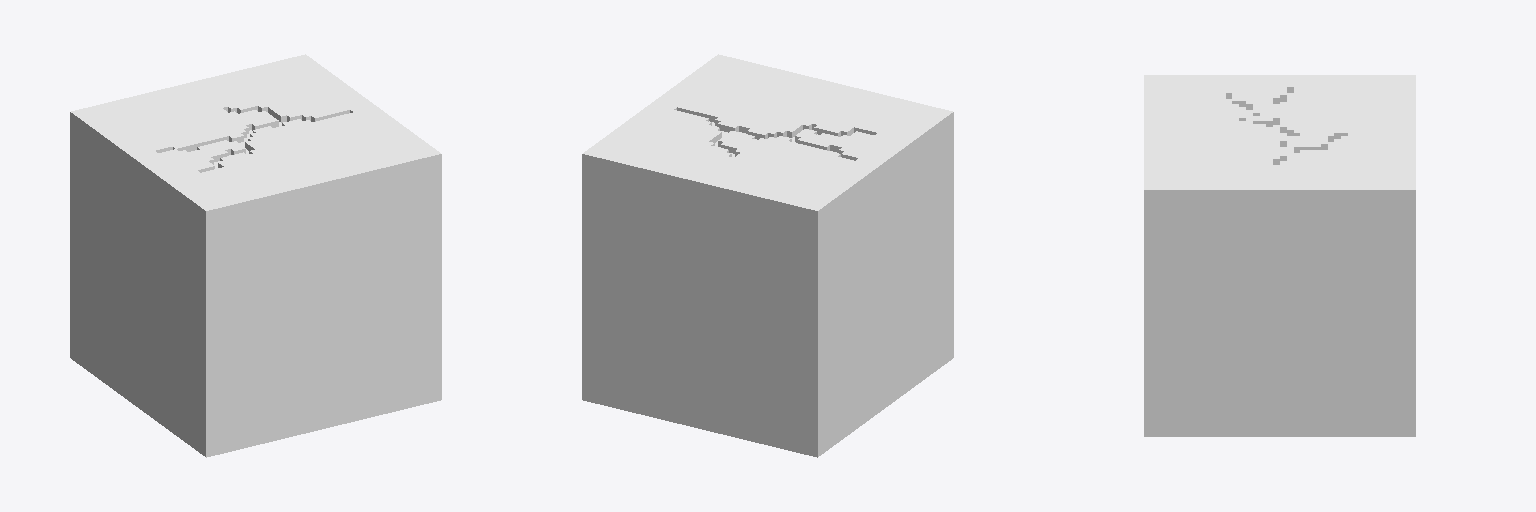
File: floor1.vox.obj
3 views of the same model, side by side, from view 1: azimuth 30°, elevation 25°; view 2: azimuth 150°, elevation 25°; view 3: azimuth 270°, elevation 25° (orthographic).
Parts seen in each view (by area): view 1: object 1; view 2: object 1; view 3: object 1.
Part boxes in pixels (bbox=[...]): object 1: bbox=[70, 54, 441, 457]; object 1: bbox=[582, 54, 953, 457]; object 1: bbox=[1144, 75, 1415, 436].
Bounding box in the file's own units: 4 × 4 × 4.